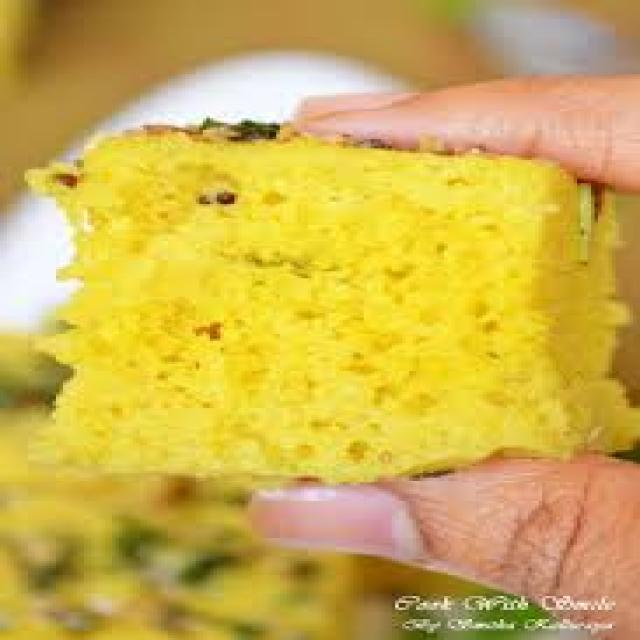DHOKLA: (28, 123, 637, 482)
